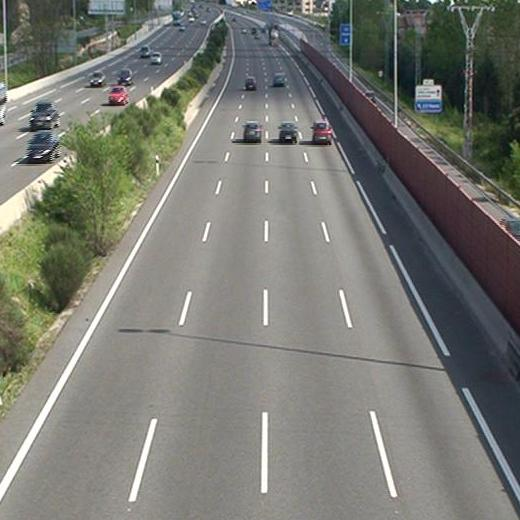car: (310, 121, 331, 144), (277, 123, 298, 143), (242, 121, 260, 140), (272, 72, 285, 87), (244, 77, 256, 90)
